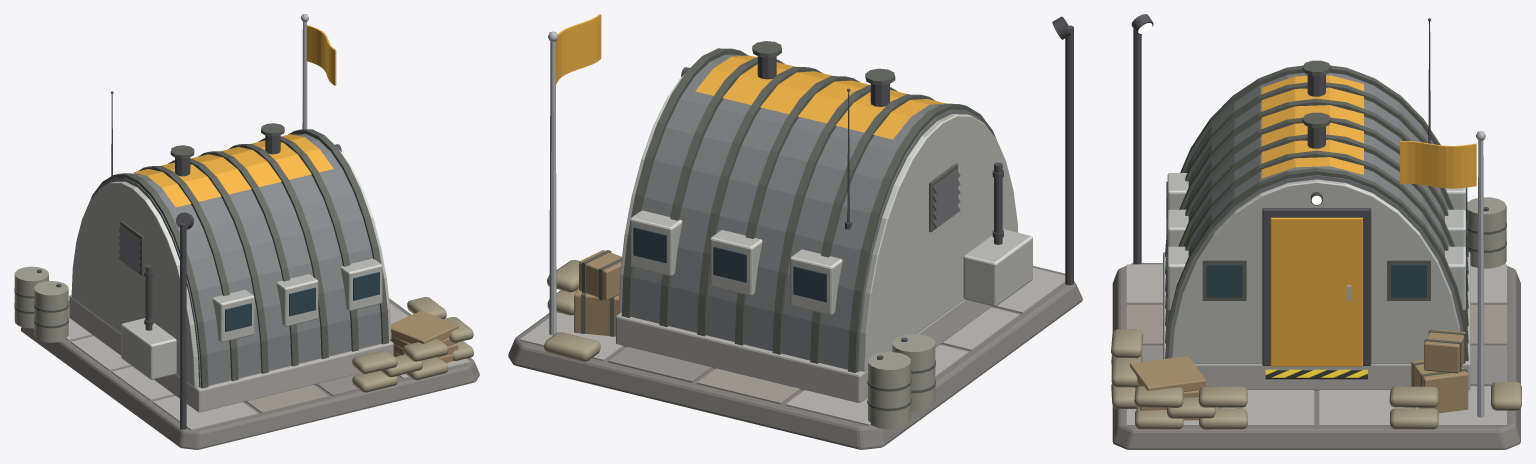
Rendered from barracks_orange.glb.
3 views of the same model, side by side, from view 1: azimuth 30°, elevation 25°; view 2: azimuth 150°, elevation 25°; view 3: azimuth 270°, elevation 25° (orthographic). The views are drawn at different scales.
Visible parts, largest first — view 1: Body; view 2: Body; view 3: Body.
Boxes of the visible parts, bbox=[...] form: Body: bbox=[14, 14, 479, 449]; Body: bbox=[508, 14, 1082, 449]; Body: bbox=[1111, 14, 1521, 449].
Bounding box in the file's own units: 4.14 × 3.28 × 4.01.
1 material, 1 textured.
